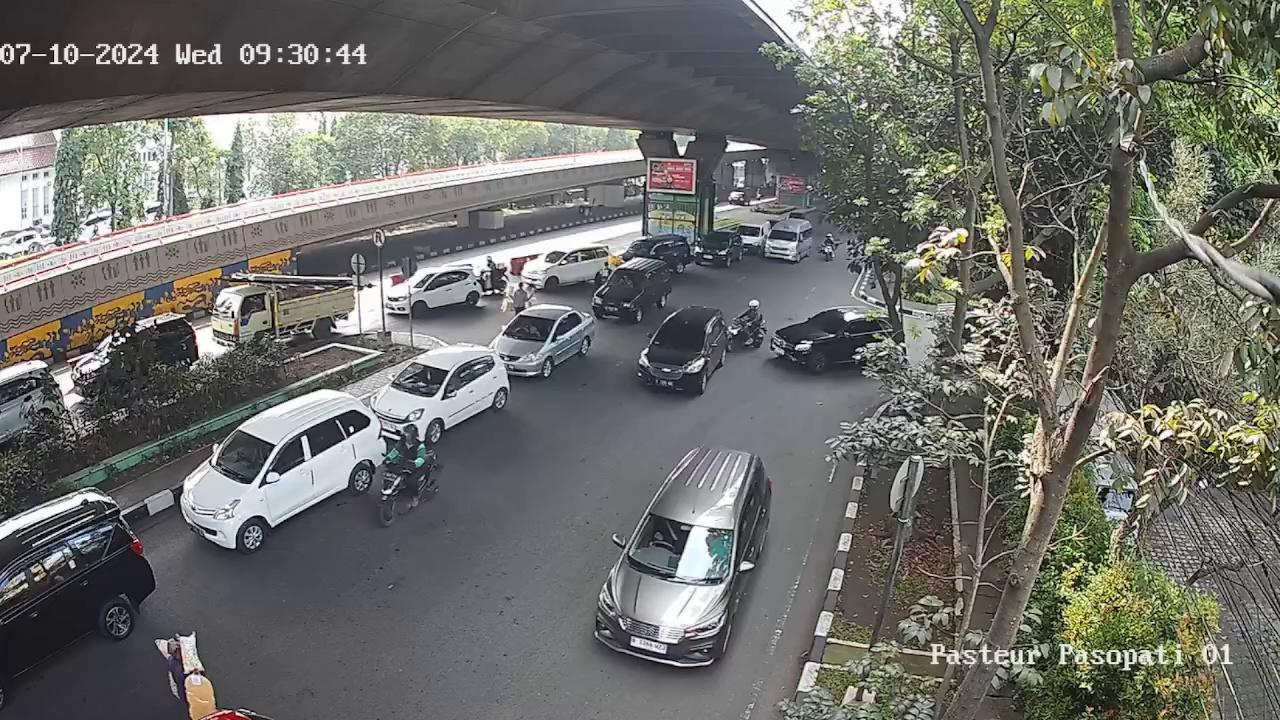pakai: (655, 525, 688, 550)
windshield: (639, 516, 737, 576), (213, 429, 272, 479), (652, 317, 704, 352), (393, 365, 445, 394), (506, 315, 556, 343)
